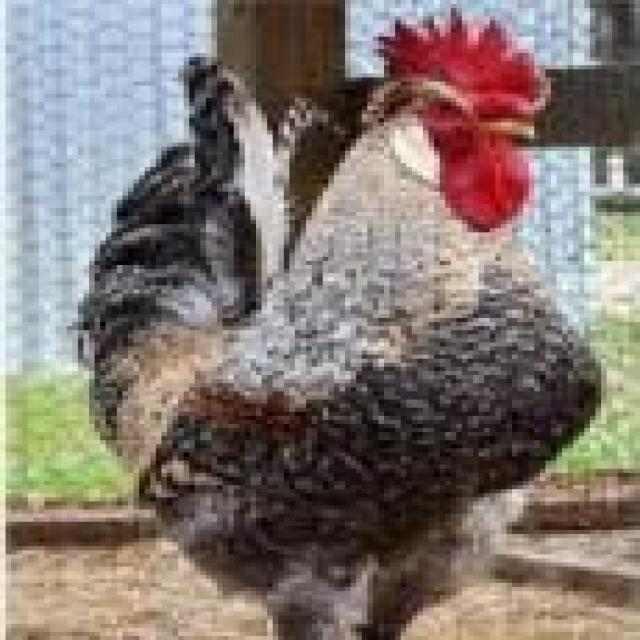Healthy: (61, 4, 618, 640)
